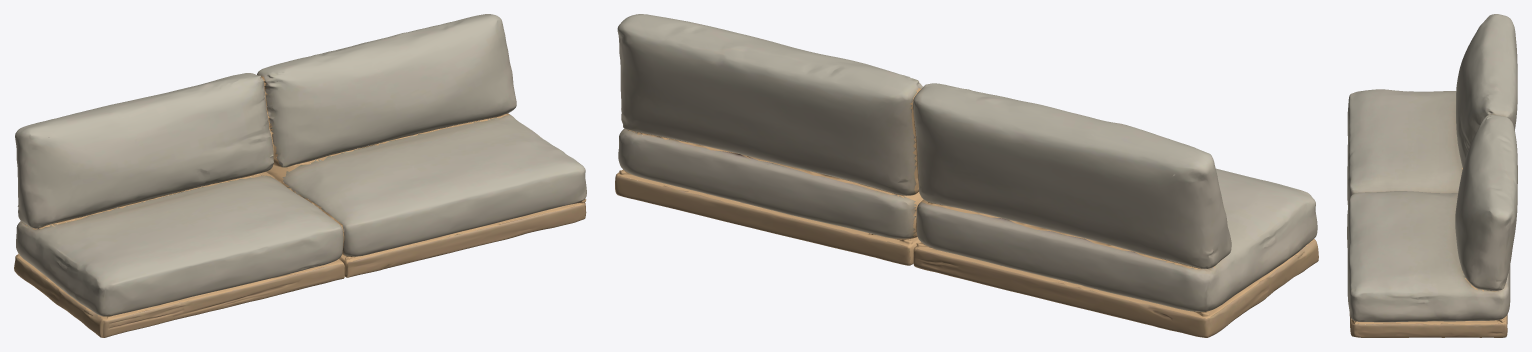
The picture shows the model from 3 angles, left to right: view 1: azimuth 30°, elevation 25°; view 2: azimuth 150°, elevation 25°; view 3: azimuth 270°, elevation 25°; orthographic projection. The views are drawn at different scales.
Visible parts, largest first — view 1: tripo_node_c73600a6-33f7-49c9-9752-c6f6939718a8; view 2: tripo_node_c73600a6-33f7-49c9-9752-c6f6939718a8; view 3: tripo_node_c73600a6-33f7-49c9-9752-c6f6939718a8.
Part boxes in pixels (<box>): tripo_node_c73600a6-33f7-49c9-9752-c6f6939718a8: <box>14,14,586,337</box>; tripo_node_c73600a6-33f7-49c9-9752-c6f6939718a8: <box>615,14,1318,337</box>; tripo_node_c73600a6-33f7-49c9-9752-c6f6939718a8: <box>1347,14,1517,337</box>.
Size of the model in its own units: 2.25 by 0.65 by 0.78.
Materials: 2 (1 with a texture image).
